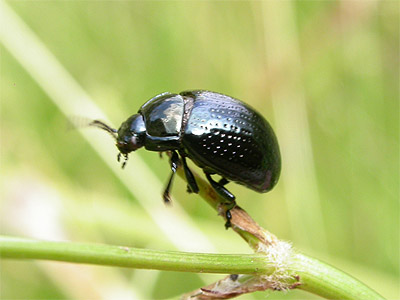Chrysolina_oricalcia: (82, 88, 281, 230)
